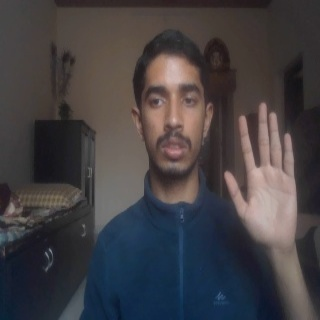Face: (129, 30, 215, 182)
Hello: (222, 101, 299, 253)
